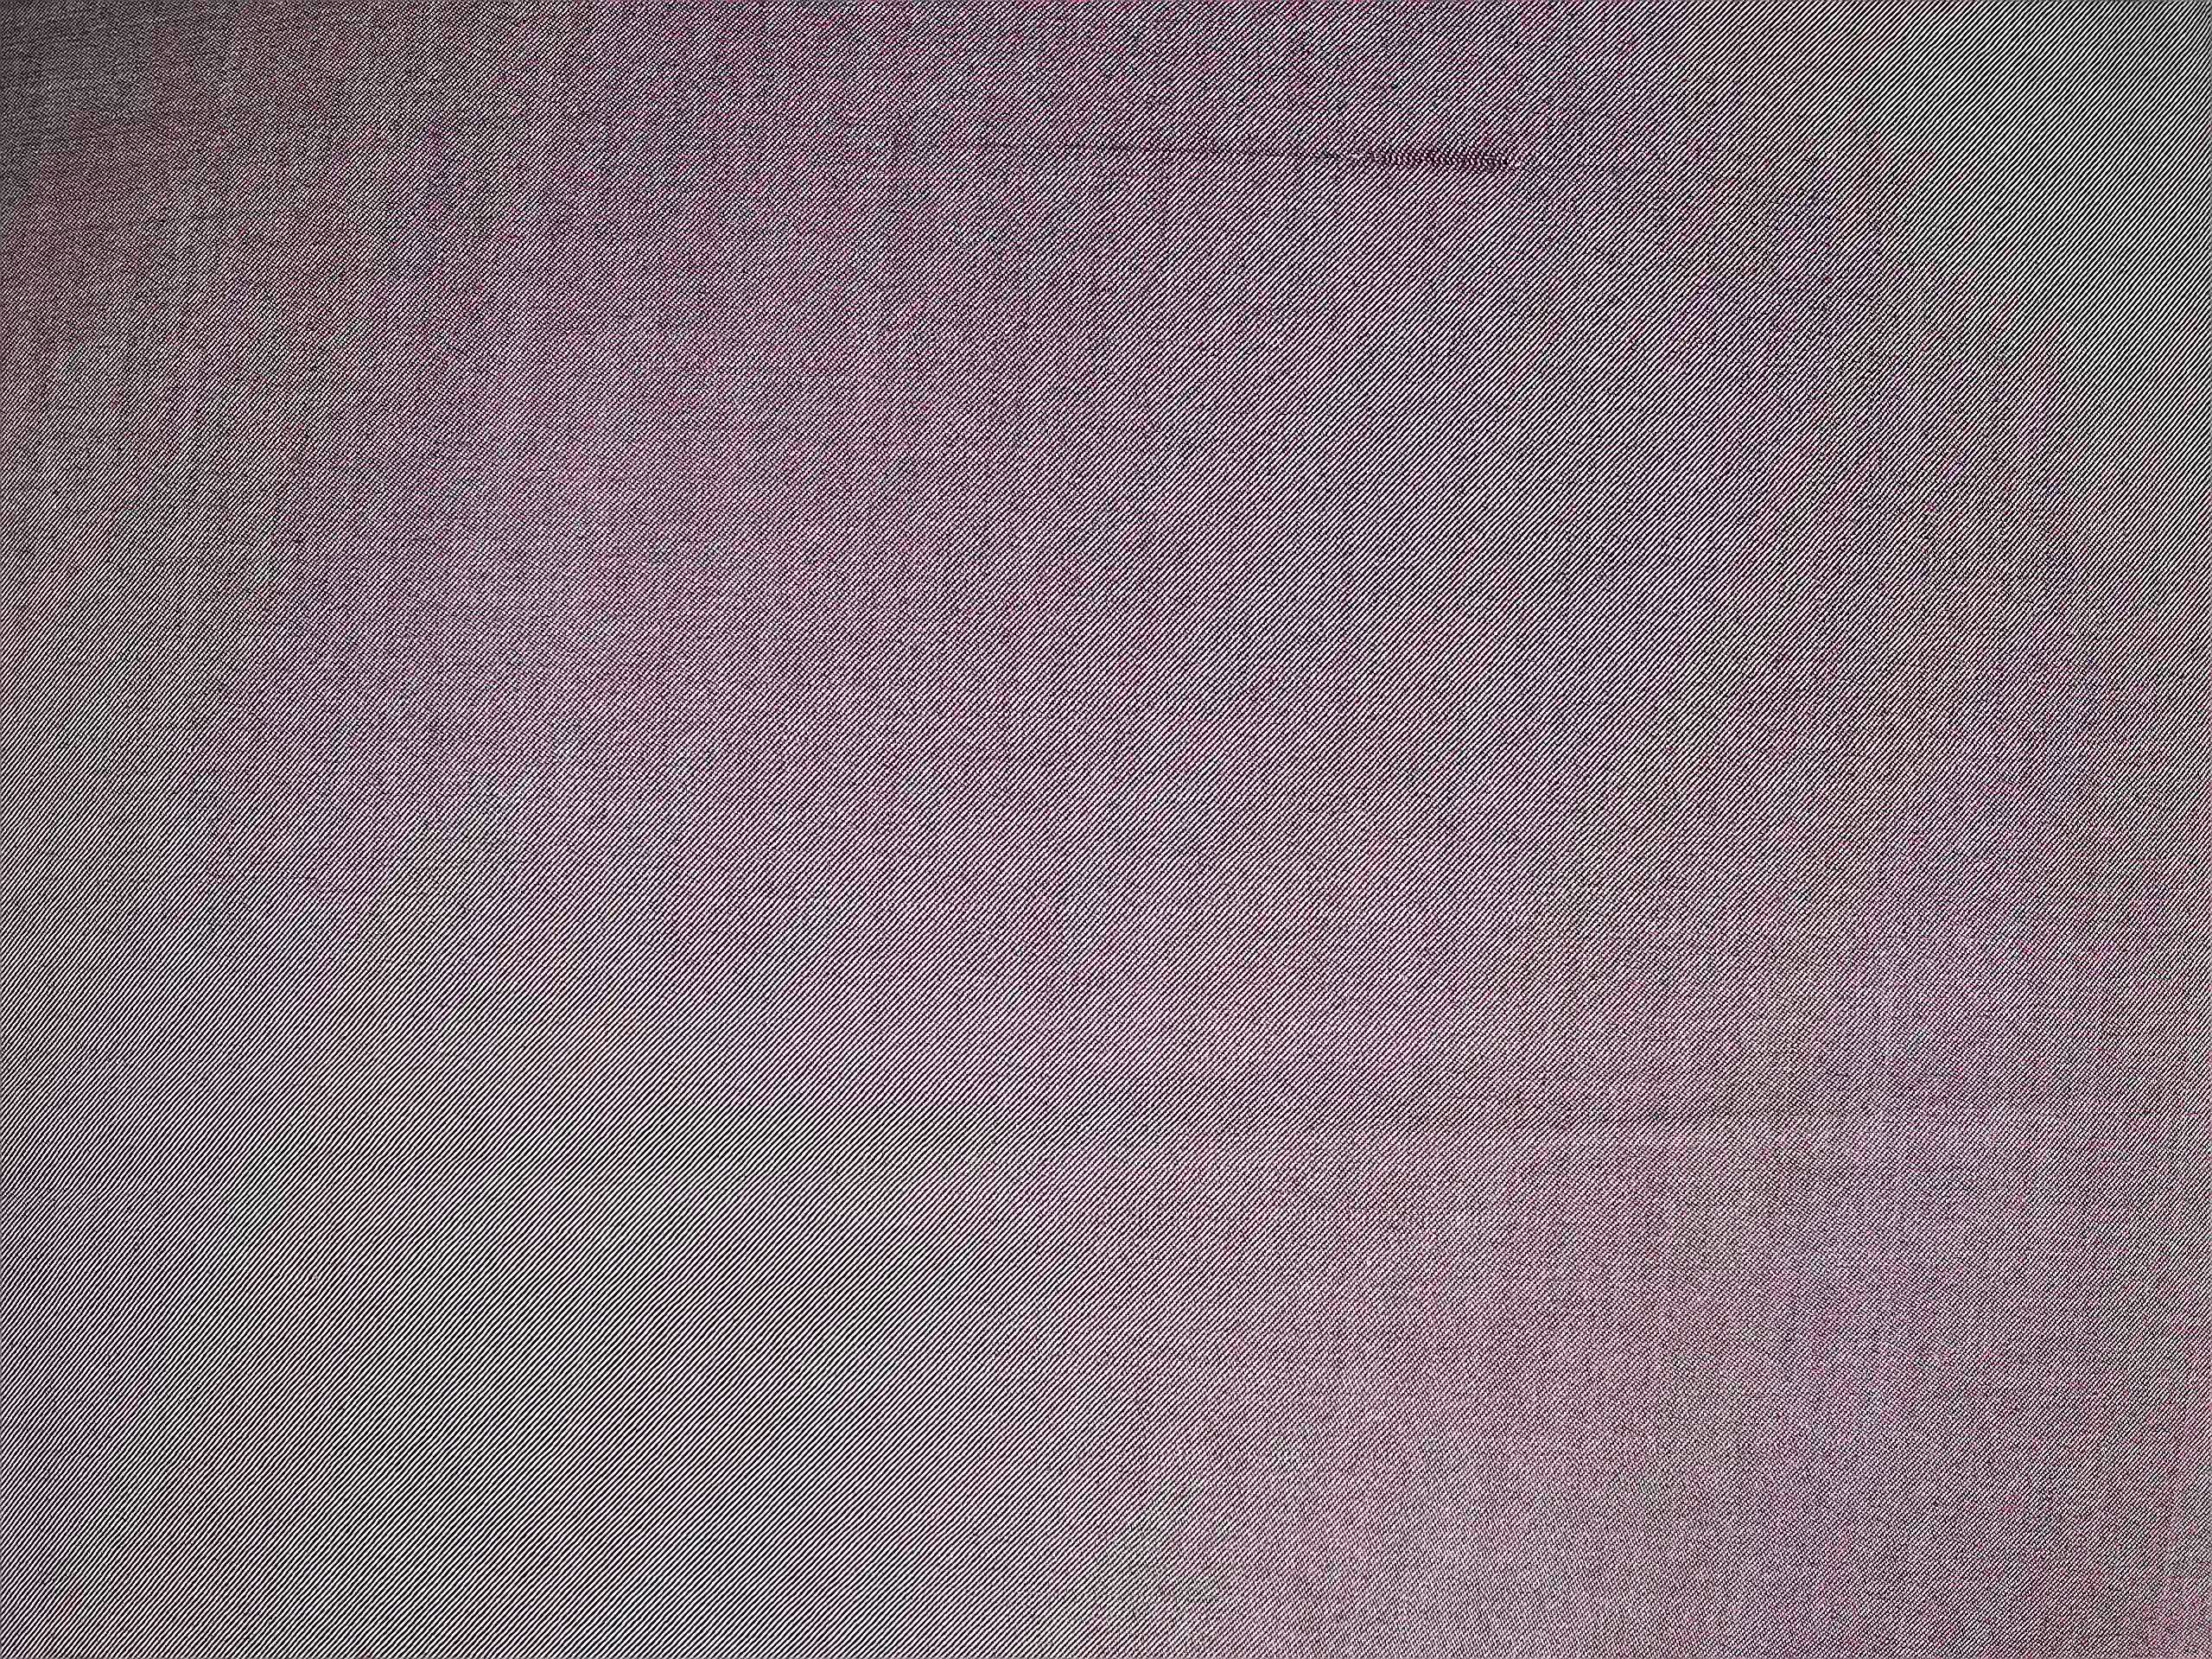thin-spinning: (1001, 124, 1548, 186)
